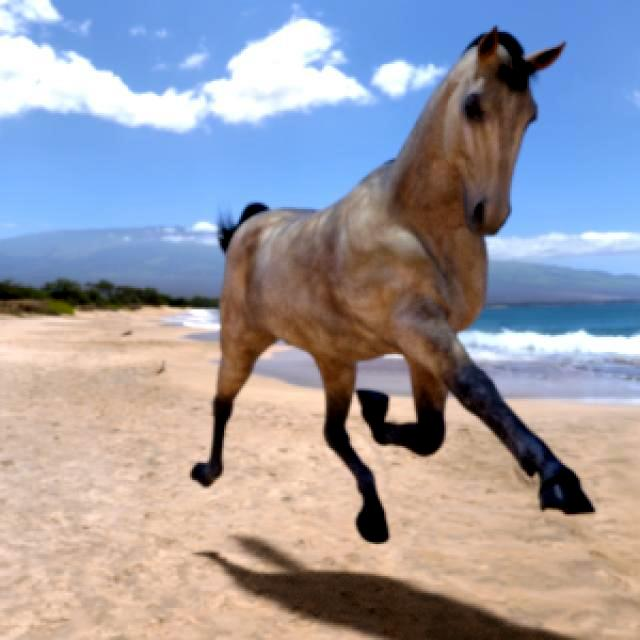horse: (192, 29, 594, 542)
